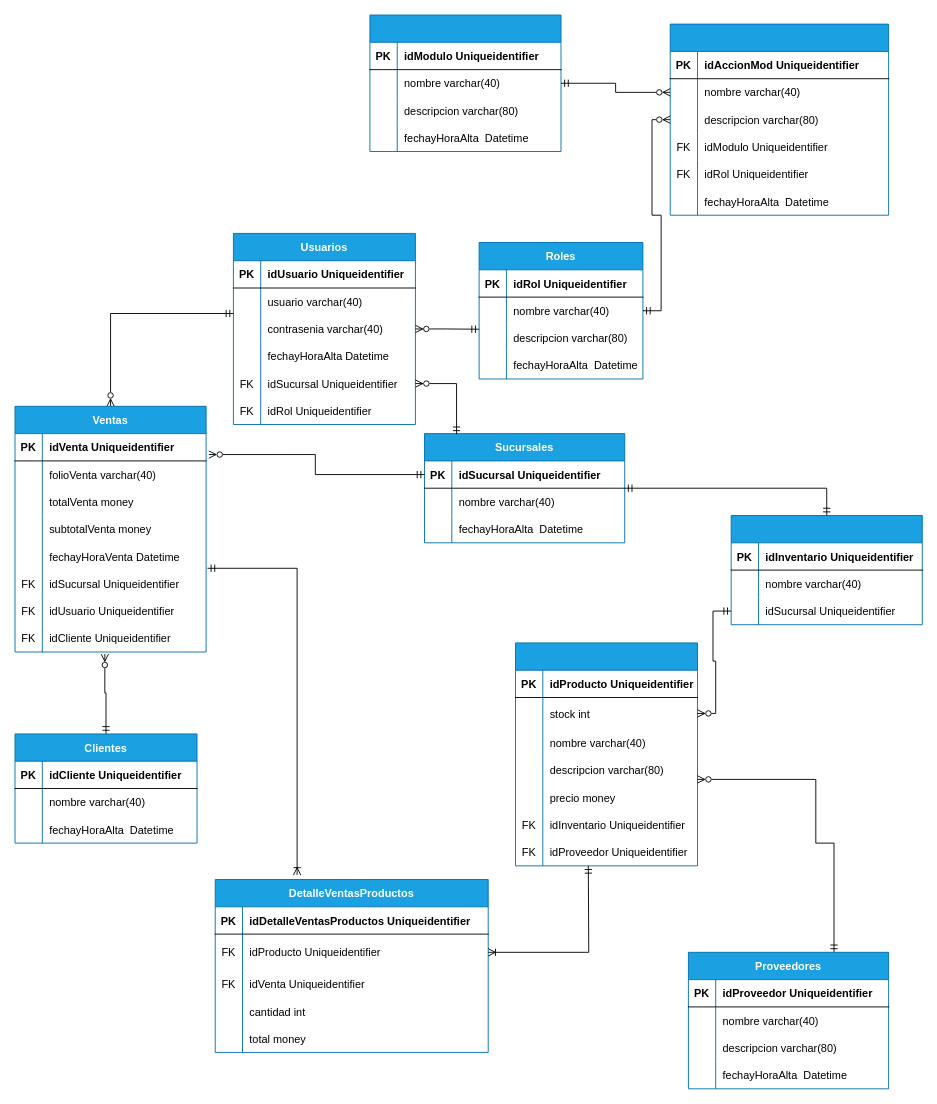
Image size: 937x1104. Some labels were removed from this diagram. Each missing label, with the box of its shape:
AccionesModulos: (669, 23, 889, 215)
Inventarios: (730, 515, 922, 625)
Modulos: (369, 14, 561, 152)
Productos: (515, 642, 698, 866)
